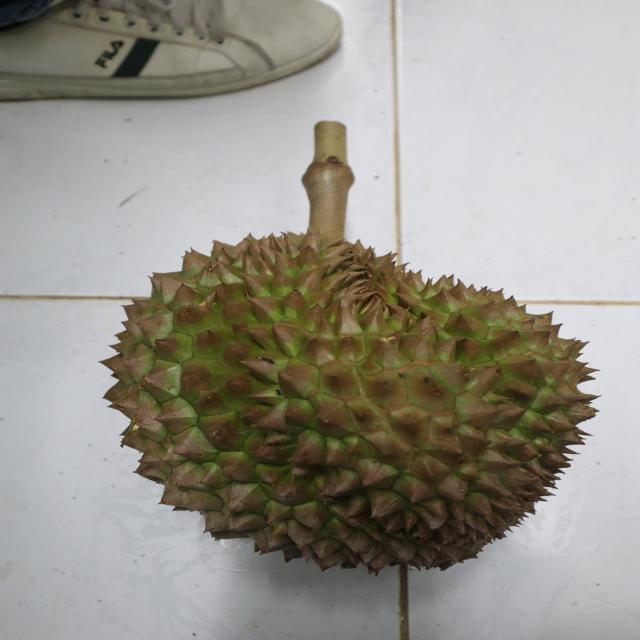mature: (101, 232, 610, 568)
